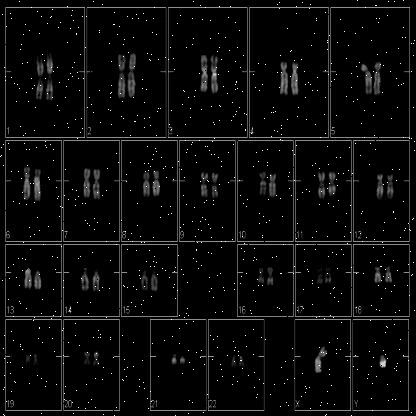1: (33, 50, 44, 102), (44, 50, 55, 102)
10: (259, 166, 266, 198), (268, 172, 276, 198)
11: (318, 168, 326, 199), (328, 168, 336, 199)
12: (386, 173, 396, 199), (376, 174, 384, 202)
13: (34, 266, 42, 290), (24, 266, 31, 290)
14: (82, 264, 90, 294), (92, 266, 100, 295)
15: (150, 268, 160, 291), (140, 270, 150, 292)
16: (256, 266, 266, 284), (266, 266, 275, 284)
17: (316, 264, 324, 286), (324, 264, 332, 284)
18: (372, 264, 382, 284), (384, 264, 394, 284)
19: (24, 349, 31, 370), (33, 348, 41, 366)
2: (117, 52, 126, 98), (127, 52, 136, 98)
20: (92, 349, 99, 367), (84, 348, 90, 366)
21: (170, 352, 178, 366), (179, 354, 187, 367)
22: (232, 353, 238, 371), (239, 352, 245, 370)
3: (210, 54, 218, 94), (199, 52, 206, 92)
4: (280, 58, 288, 96), (291, 60, 299, 95)
5: (359, 61, 373, 94), (373, 61, 382, 94)
6: (22, 164, 30, 203), (33, 168, 41, 204)
7: (92, 167, 100, 201), (84, 168, 90, 199)
8: (141, 169, 150, 196), (152, 169, 160, 196)
9: (201, 169, 208, 198), (210, 170, 217, 198)
X: (314, 343, 328, 374)
Y: (378, 352, 388, 370)
